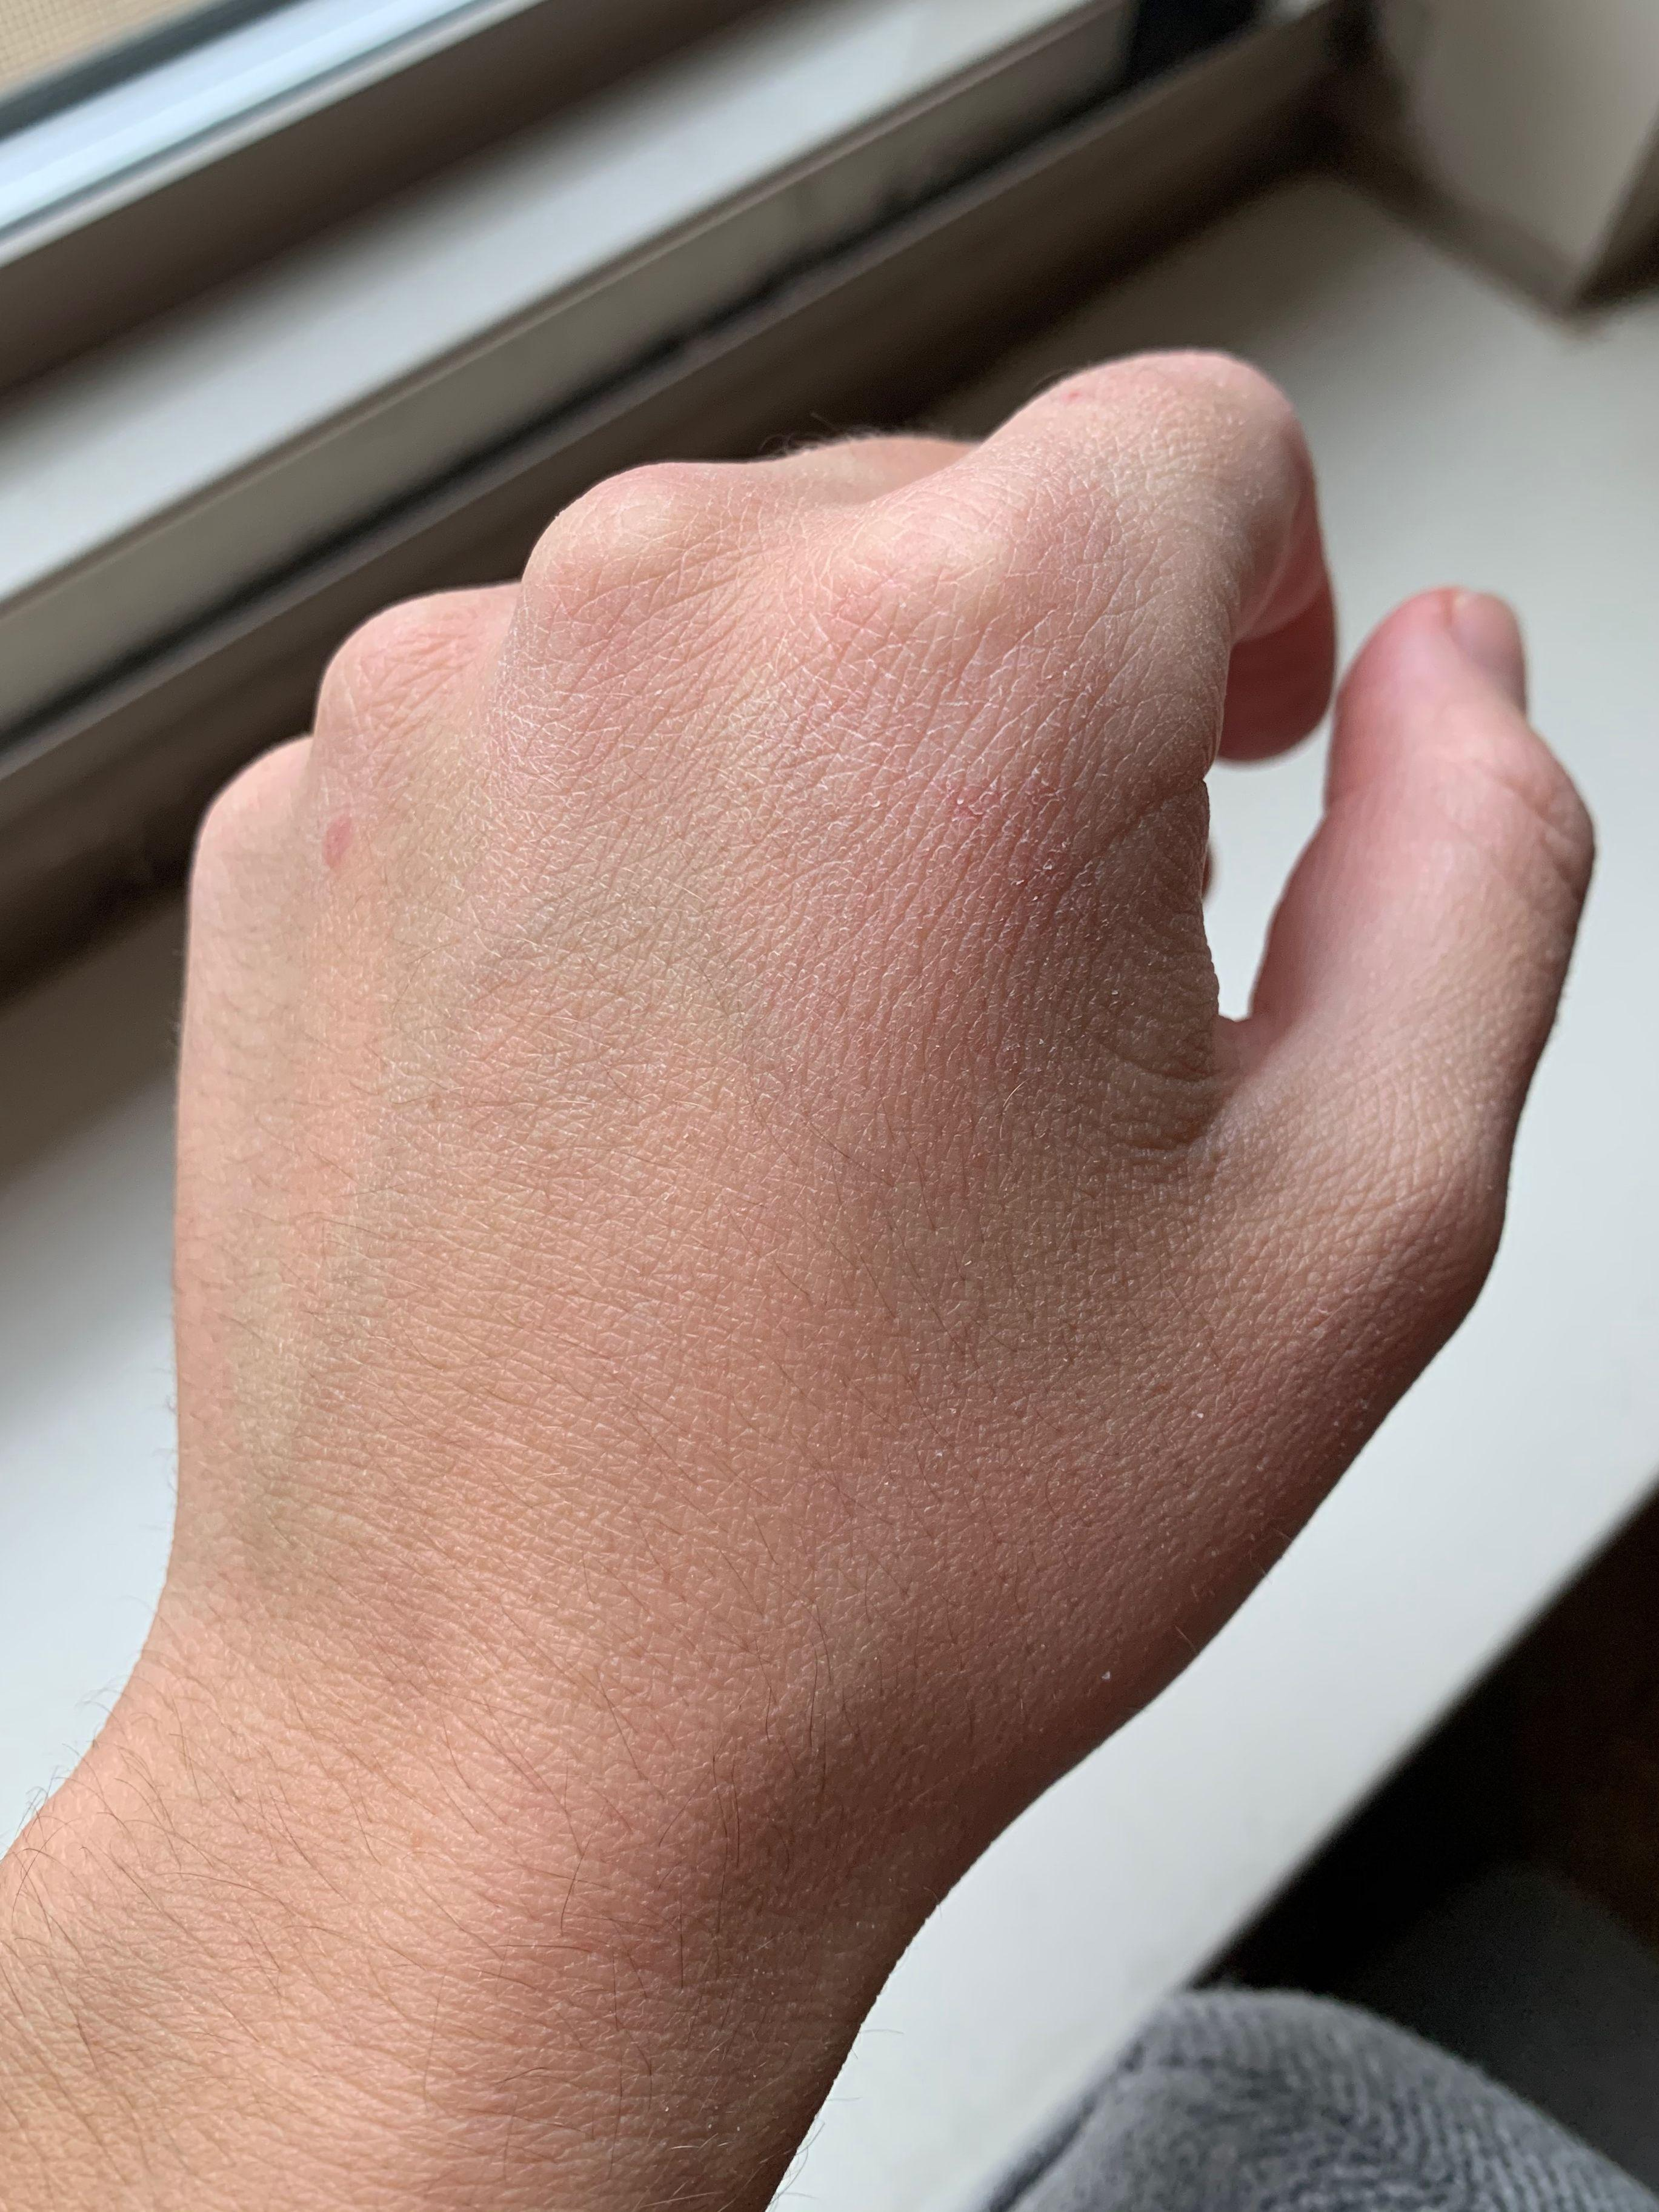Dry-Skin: (420, 456, 1556, 1390)
